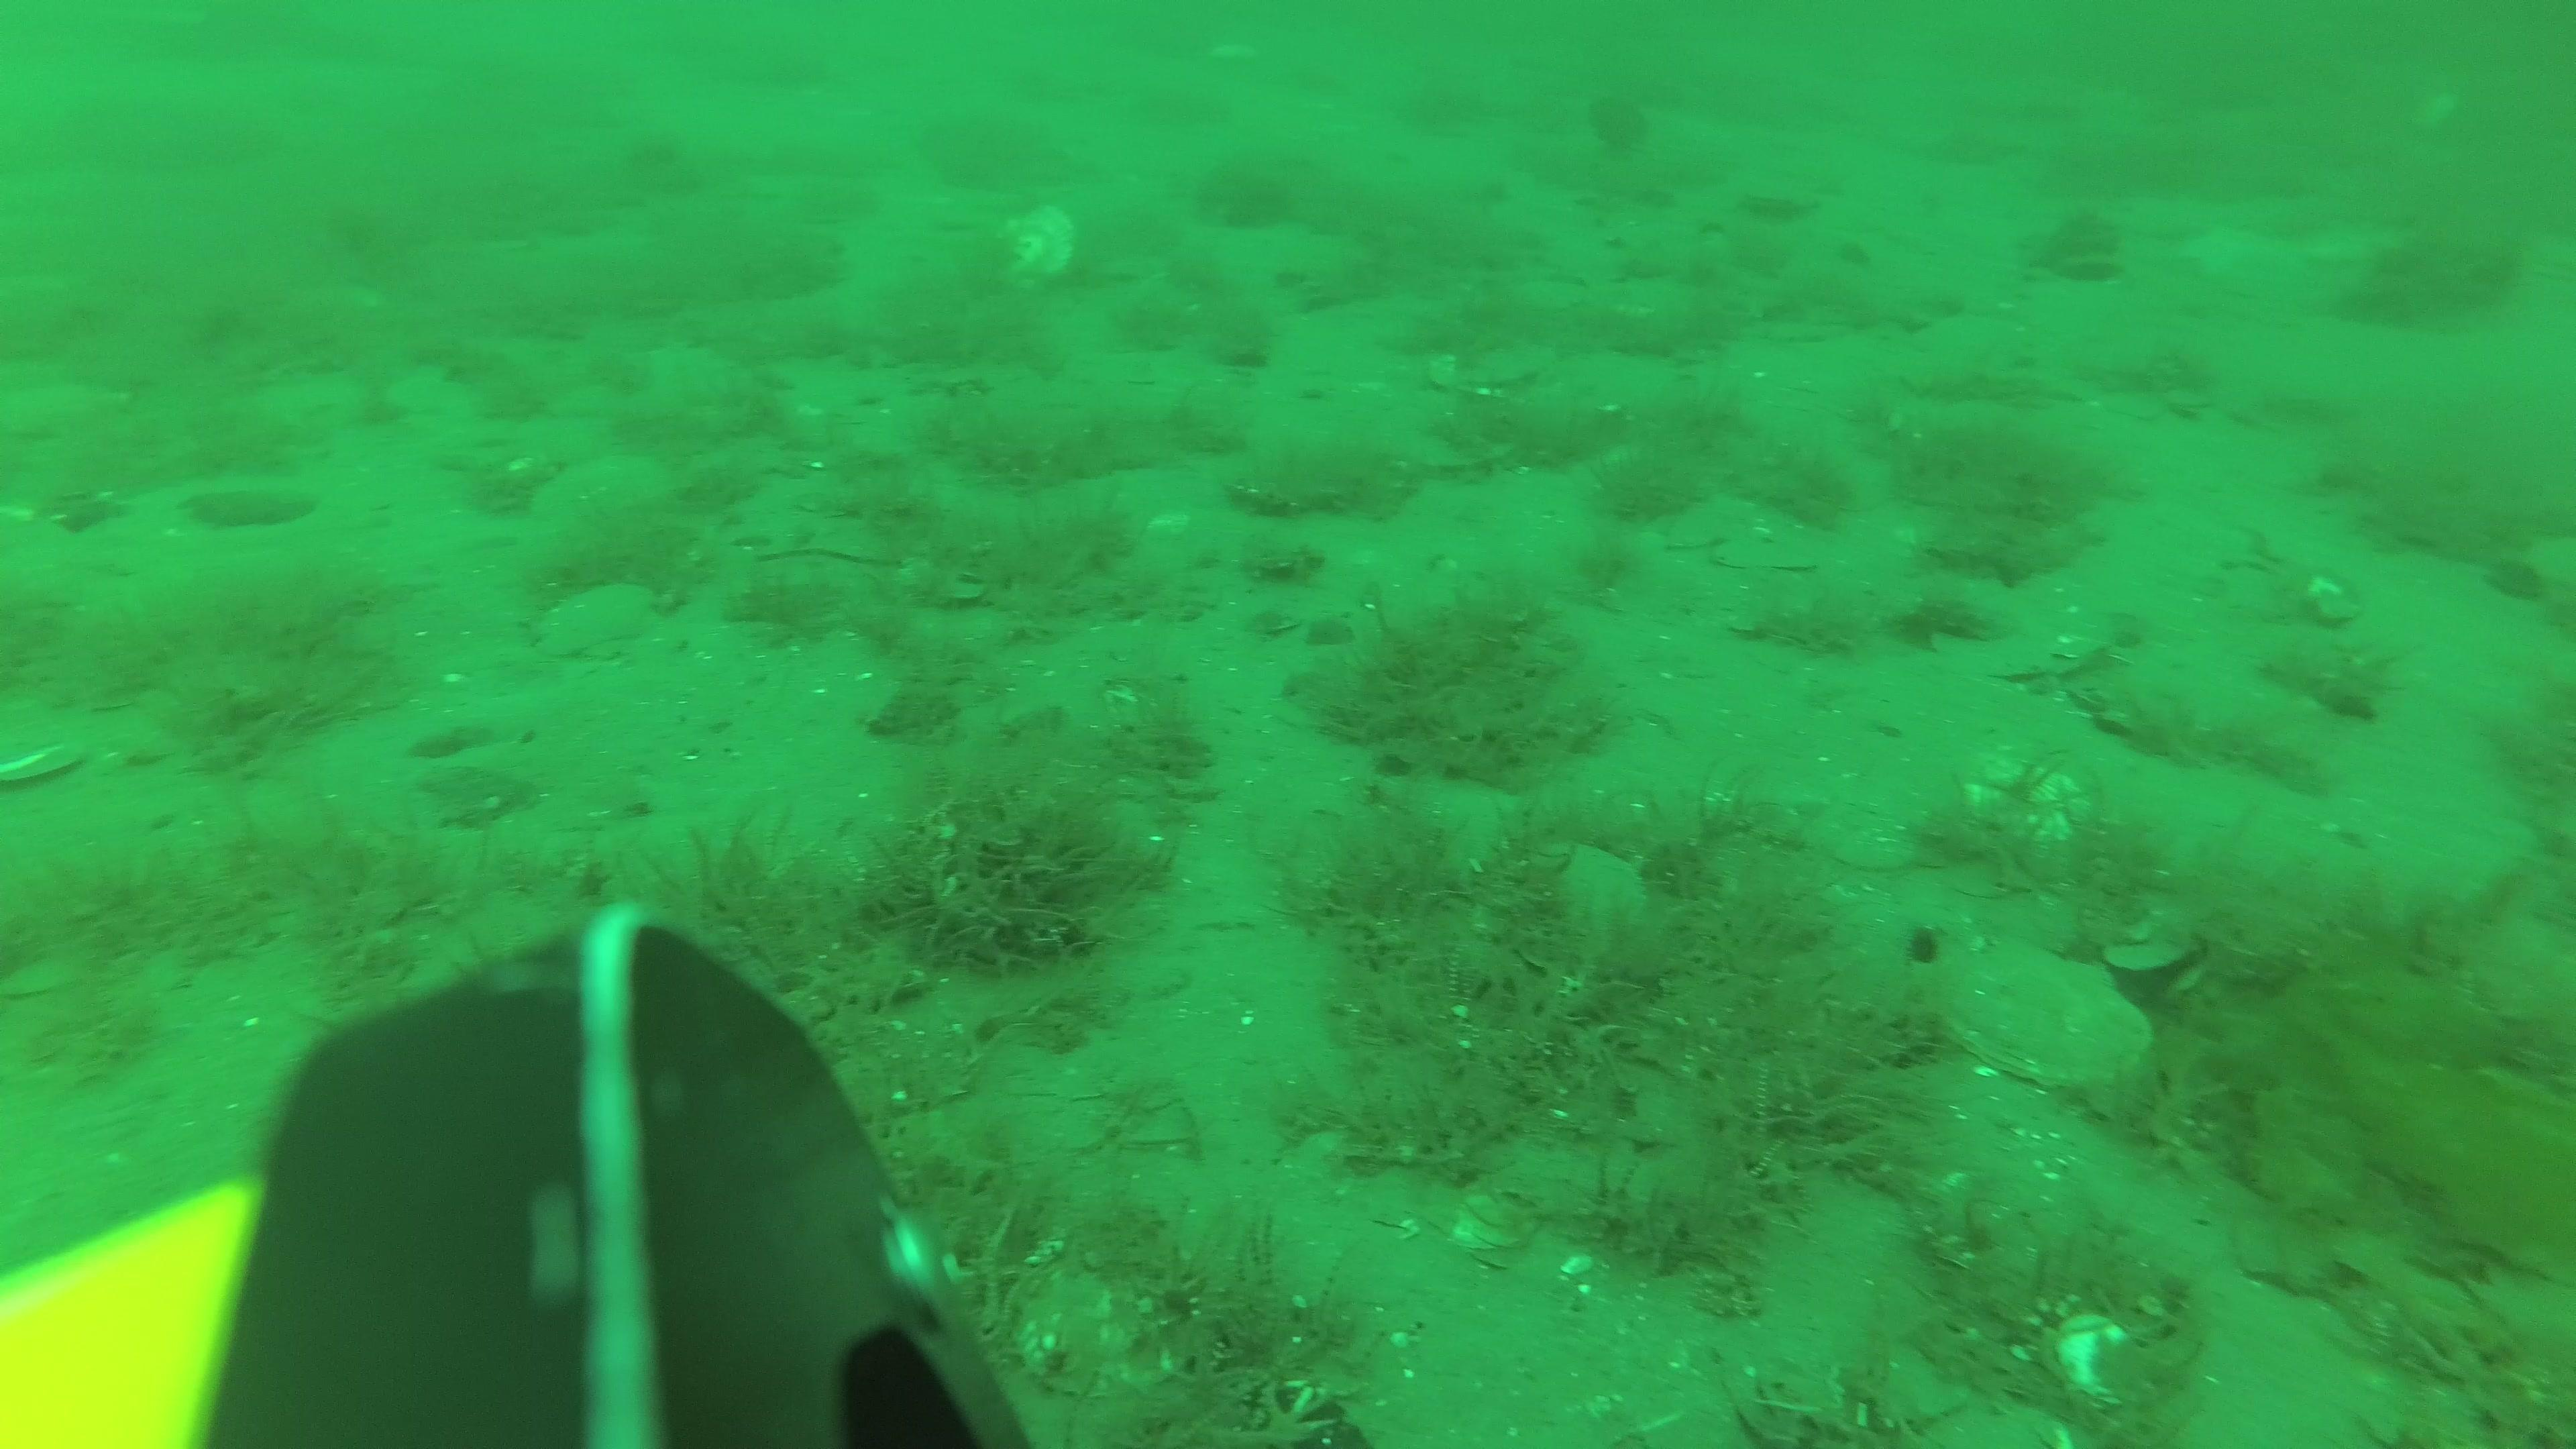scallop: (1941, 938, 2151, 1083), (1962, 750, 2089, 849), (536, 589, 648, 663), (1000, 203, 1079, 295)
